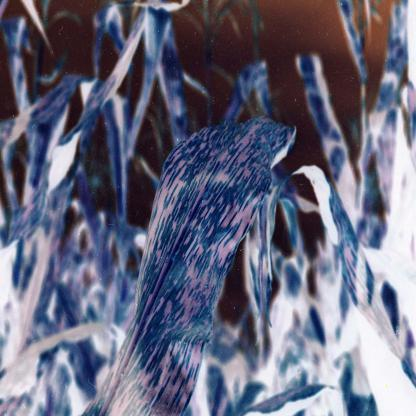corn gray leaf spot: (85, 113, 307, 416)
